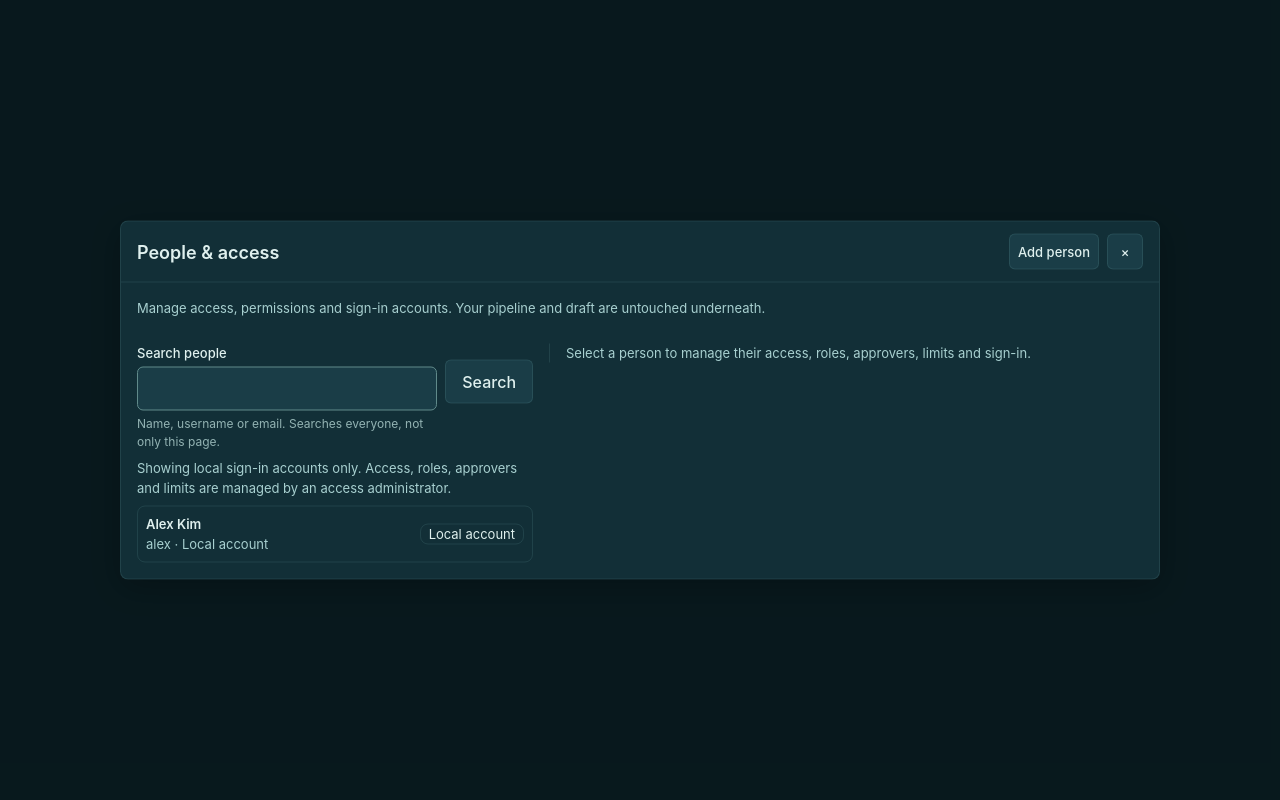
People & access journeys › tells a local-only administrator that someone else sets access up
Click the button "Alex Kim alex · Local account Local account": click(174, 524) [137, 506, 533, 562]
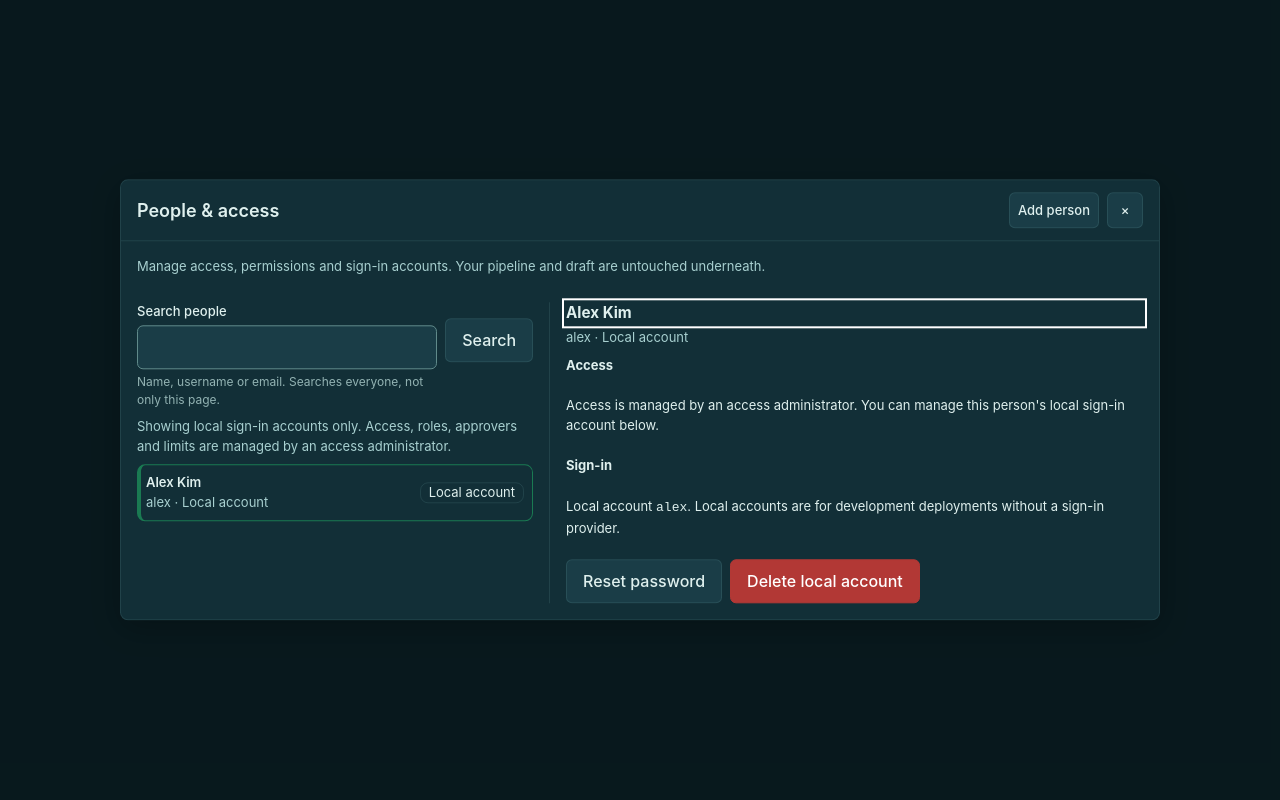
Check: the text "Access is managed by an access administrator" is shown, box [566, 398, 1125, 433]
Check: the button with aria-label "Reset password for Alex Kim" is shown, box [566, 560, 722, 604]
